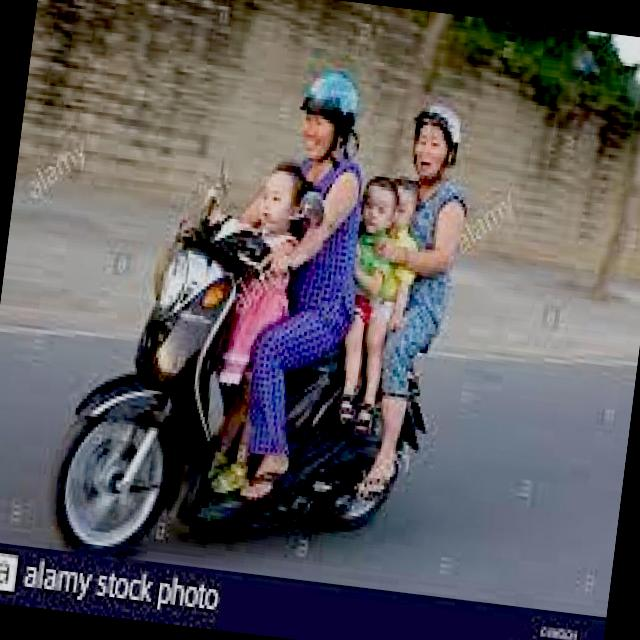motorcycle: (32, 192, 450, 594)
person: (363, 99, 481, 502), (265, 63, 381, 405), (220, 154, 316, 435), (326, 168, 404, 418), (363, 167, 434, 405)
rider_region: (36, 39, 483, 592)
